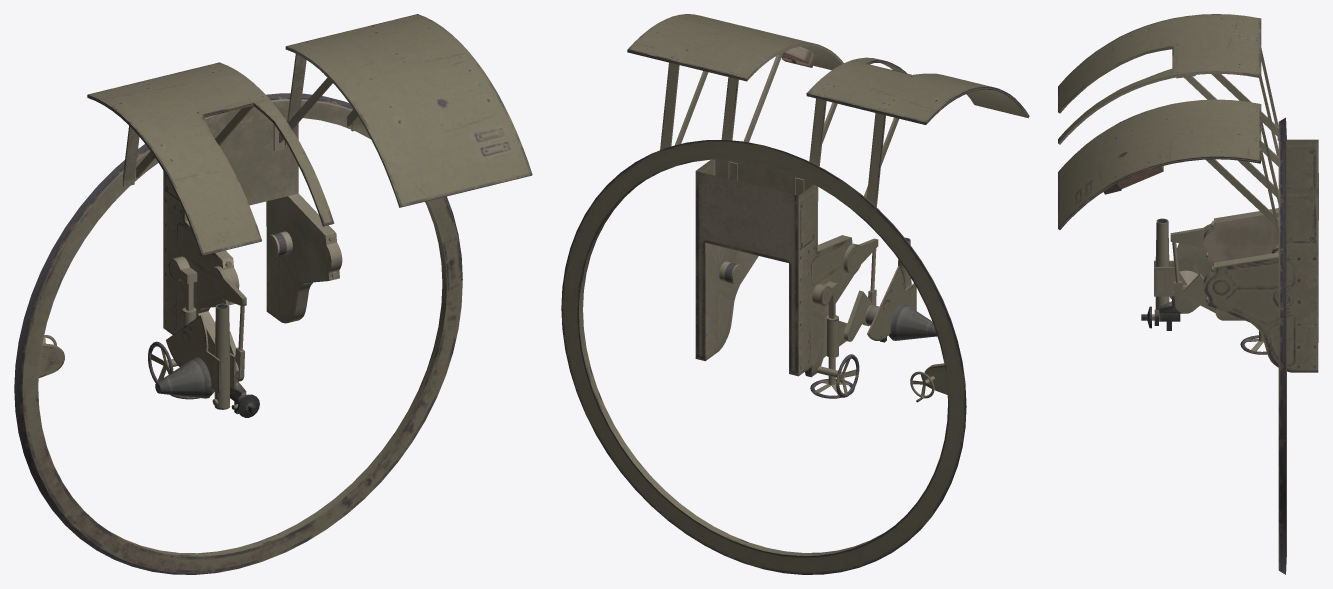
The model's file is Turret_01.glb.
The picture shows the model from 3 angles, left to right: view 1: azimuth 30°, elevation 25°; view 2: azimuth 150°, elevation 25°; view 3: azimuth 270°, elevation 25°; orthographic projection. The views are drawn at different scales.
Visible parts, largest first — view 1: set_0_group_0; view 2: set_0_group_0; view 3: set_0_group_0.
Part boxes in pixels (box(x1,y1,x2,y2)): set_0_group_0: box(14, 14, 532, 574); set_0_group_0: box(561, 14, 1029, 574); set_0_group_0: box(1058, 14, 1318, 574).
Bounding box in the file's own units: 2.08 × 2.34 × 1.18.
Materials: 1 (1 with a texture image).
